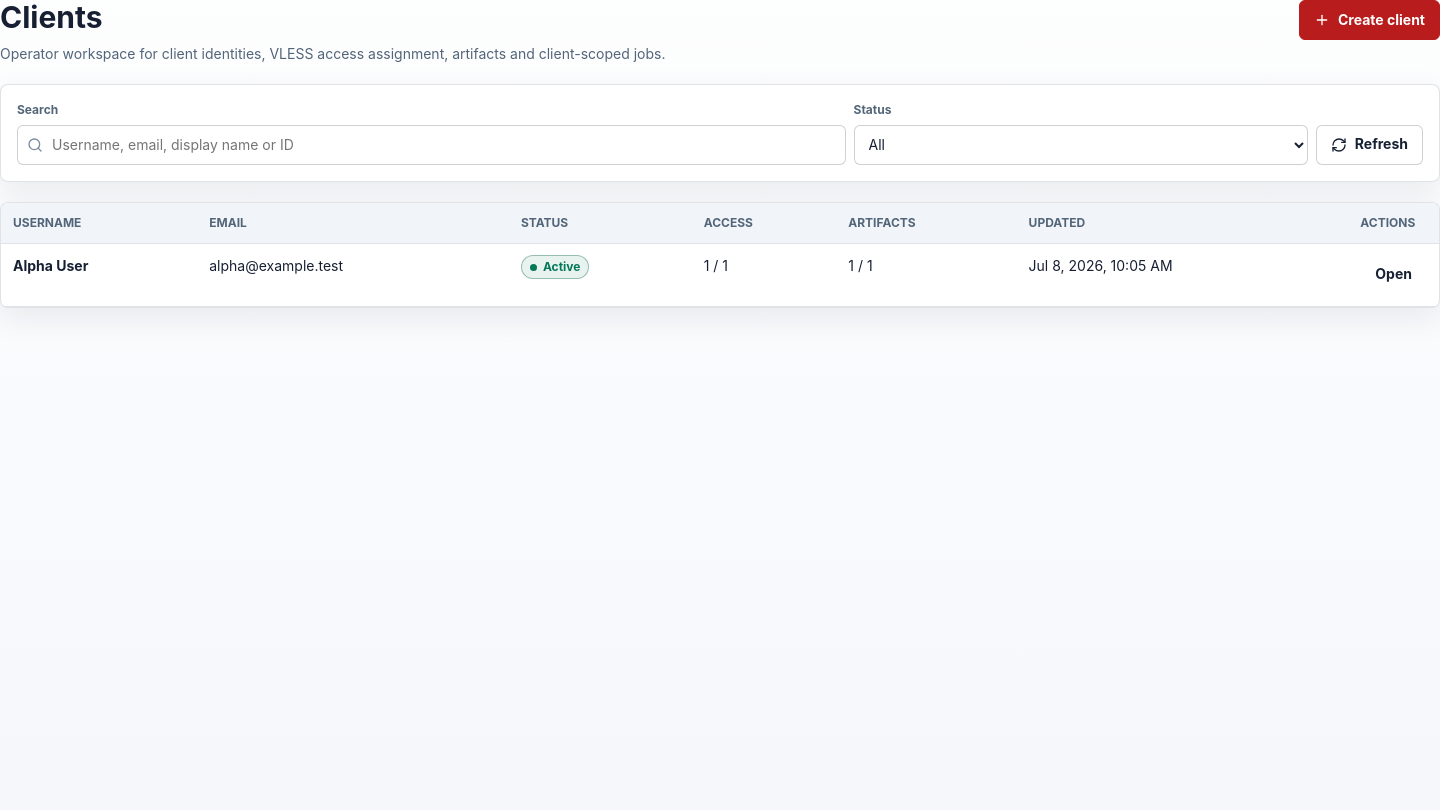
Test: ClientsPage › loads the client list and opens a real detail drawer
The width and height of the screenshot is (1440, 810).
Check: the text "alpha@example.test" is shown, box [197, 243, 509, 306]
What coordinates should you click on to do the following:
click the button "Open"
I would click on:
 (1394, 274)
Its box is [1360, 254, 1427, 294].
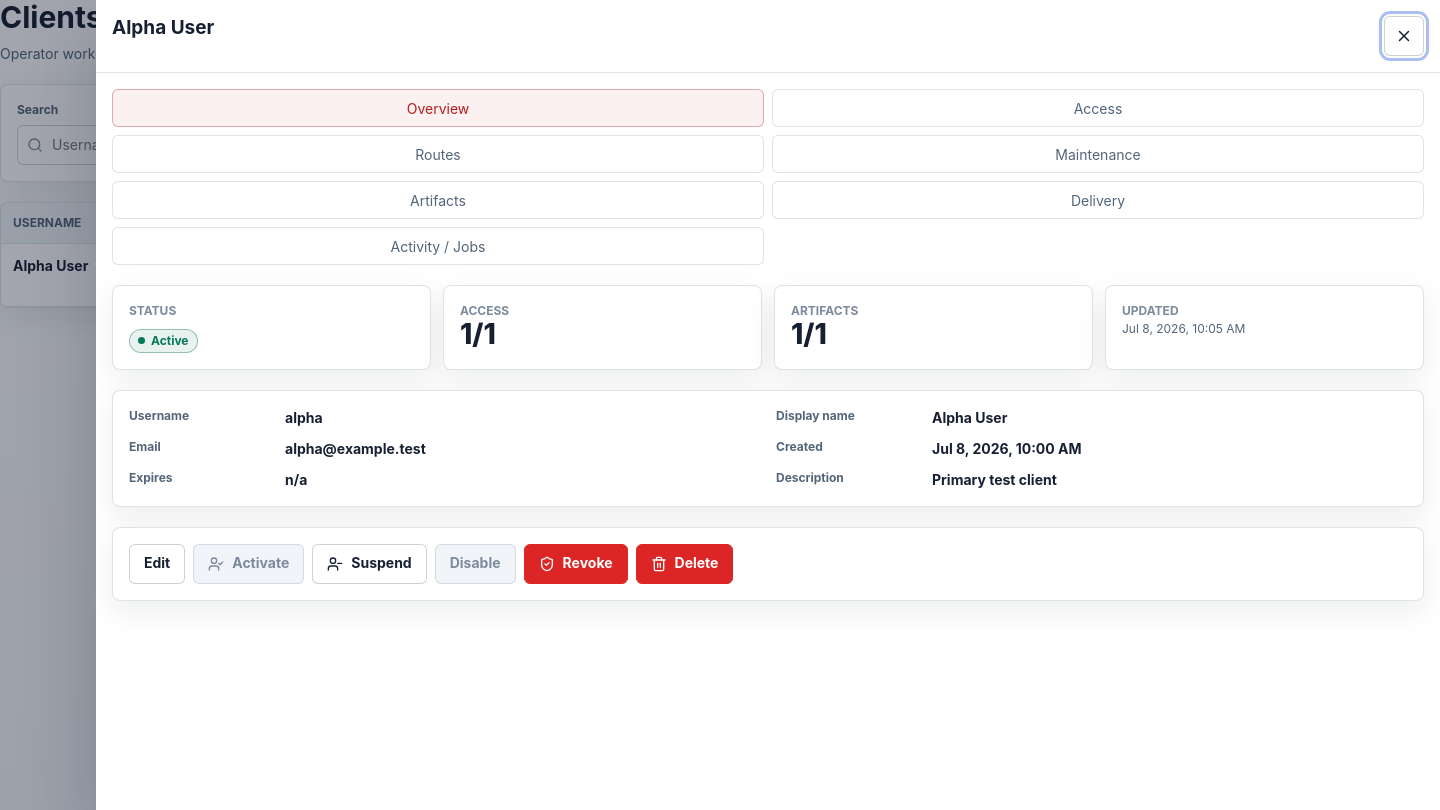
Check: the heading "Alpha User" is shown, box [112, 16, 214, 40]
Check: the text "Primary test client" is shown, box [932, 470, 1057, 488]
